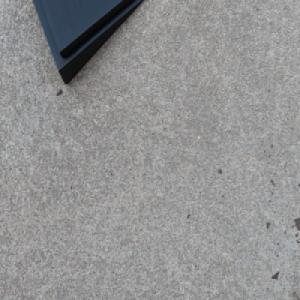PlasticPart: (31, 0, 146, 89)
